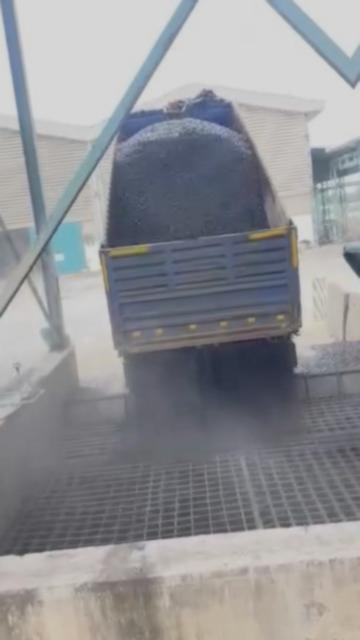gravel: (108, 117, 269, 246), (126, 340, 295, 432), (298, 338, 360, 373)
